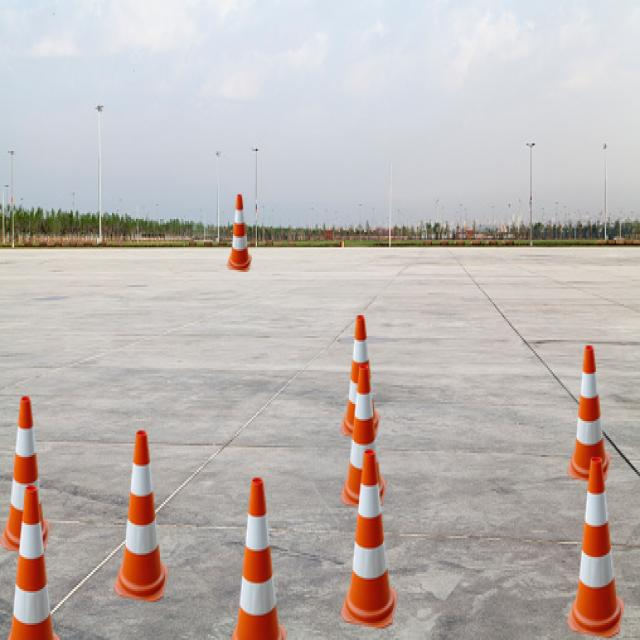large_orange_cone: (567, 457, 625, 638), (340, 449, 398, 629), (226, 477, 287, 640), (113, 430, 169, 602), (0, 485, 62, 640), (0, 396, 50, 555), (340, 364, 387, 510), (567, 346, 611, 484), (340, 315, 381, 440), (227, 194, 252, 272)
